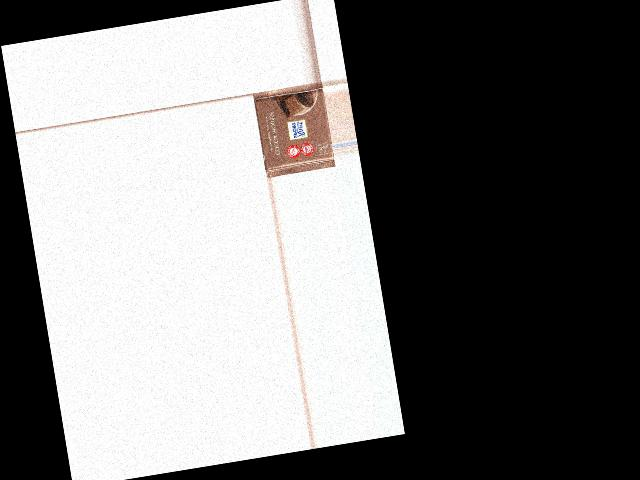chocolate: (252, 81, 335, 177)
